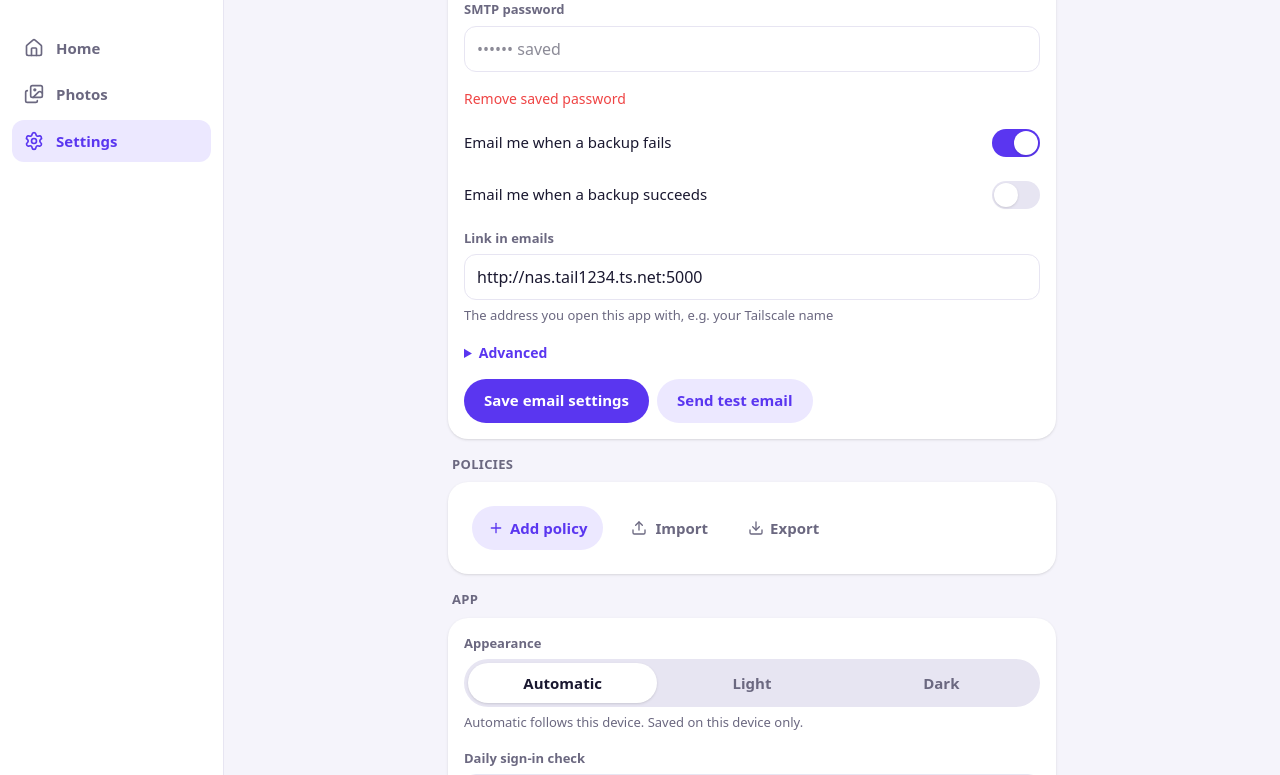
test email shows the error message
The width and height of the screenshot is (1280, 775).
(page scrolled)
Expected: the button "Save email settings" is shown, [464,378,649,422]
Click the button "Send test email". click: (735, 400)
box: [657,378,812,422]
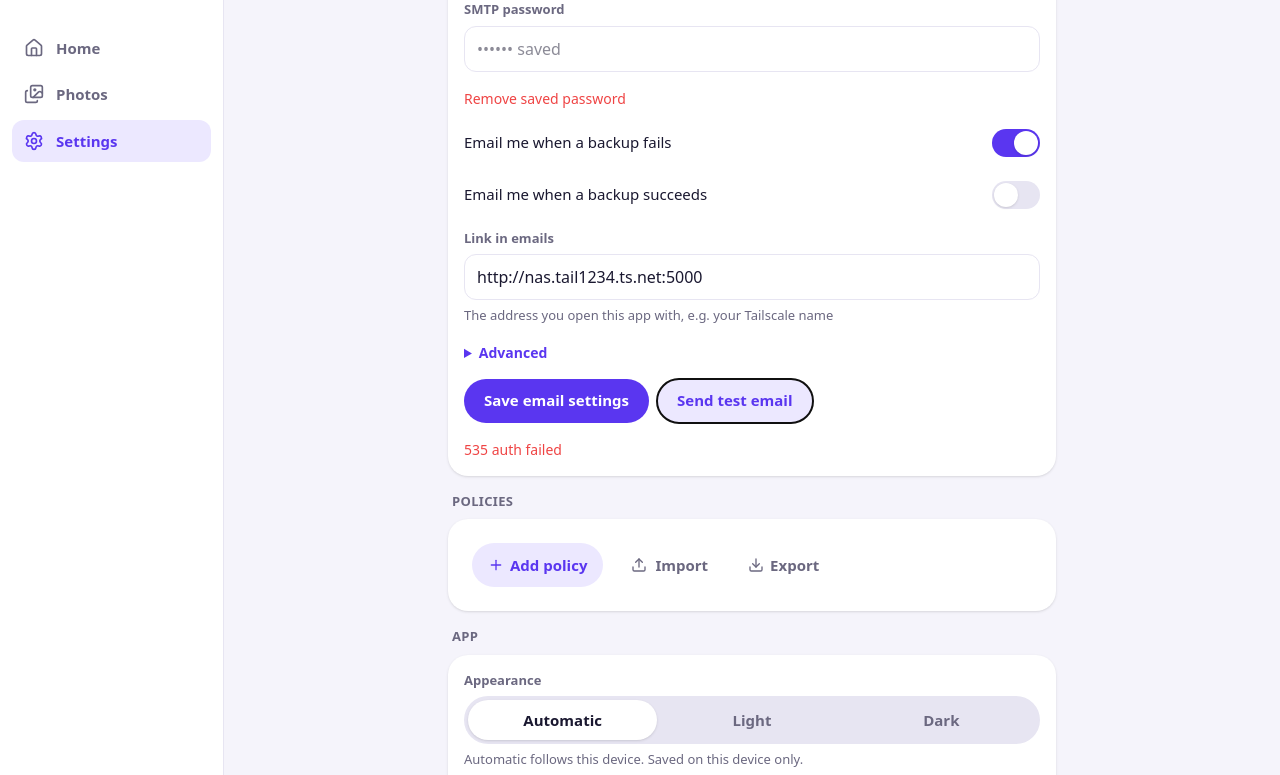
Expected: the text "535 auth failed" is shown, [464,440,562,458]
